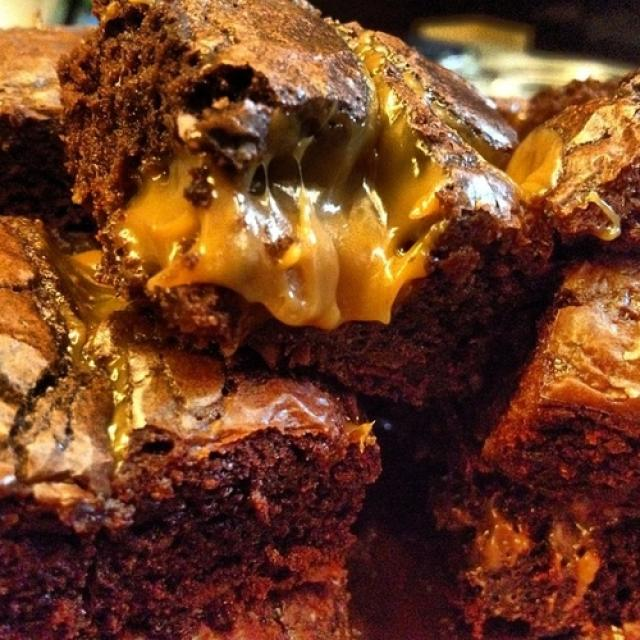蛋糕甜品: (9, 37, 617, 618)
